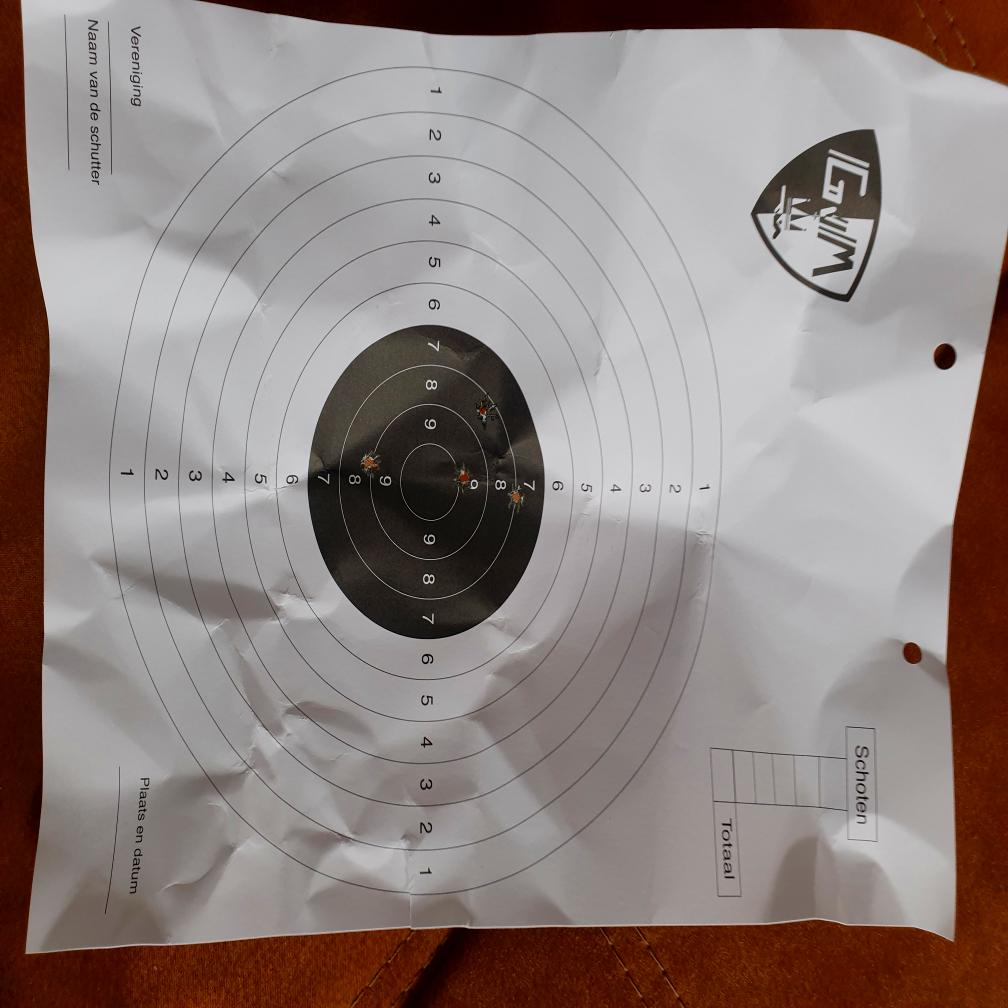10: (453, 461, 473, 493)
8: (475, 393, 498, 430), (508, 484, 525, 514)
9: (360, 451, 382, 478)
Target: (110, 64, 723, 899)
black_contour: (307, 324, 547, 640)
